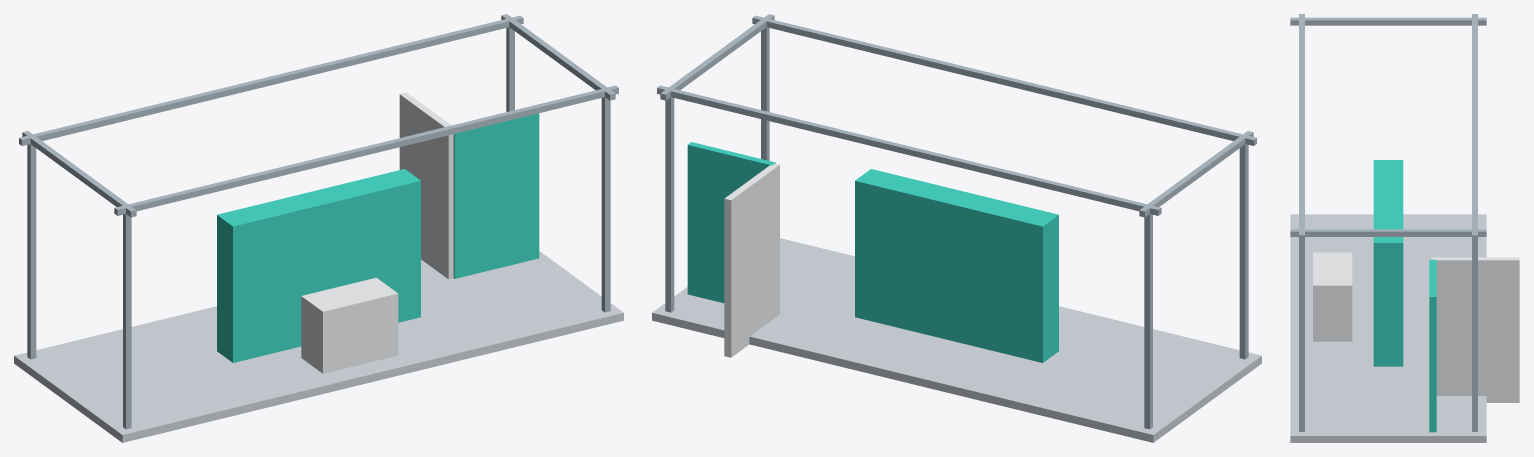
3 renders of one model, left to right at view 1: azimuth 30°, elevation 25°; view 2: azimuth 150°, elevation 25°; view 3: azimuth 270°, elevation 25°, orthographic. The views are drawn at different scales.
Parts seen in each view (by area): view 1: Exhibition Booth Concept; view 2: Exhibition Booth Concept; view 3: Exhibition Booth Concept.
Boxes of the visible parts, bbox=[...] form: Exhibition Booth Concept: bbox=[14, 14, 623, 442]; Exhibition Booth Concept: bbox=[652, 14, 1261, 442]; Exhibition Booth Concept: bbox=[1290, 14, 1519, 442].
Size of the model in its own units: 8 by 3.49 by 3.51.
